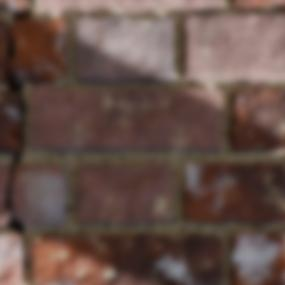brick: (30, 87, 222, 151), (31, 234, 222, 284), (183, 13, 284, 81), (75, 16, 173, 84), (183, 163, 284, 223), (77, 164, 171, 224), (229, 88, 284, 151), (230, 232, 284, 284), (35, 0, 222, 12), (0, 93, 22, 153), (0, 233, 23, 284), (233, 0, 284, 9), (0, 0, 26, 10)
broken_brick: (10, 17, 68, 84), (12, 163, 67, 226), (0, 163, 7, 225), (0, 18, 5, 71), (0, 75, 4, 84)
crack: (0, 2, 32, 282), (142, 233, 188, 244), (273, 104, 284, 114), (280, 91, 284, 98)
